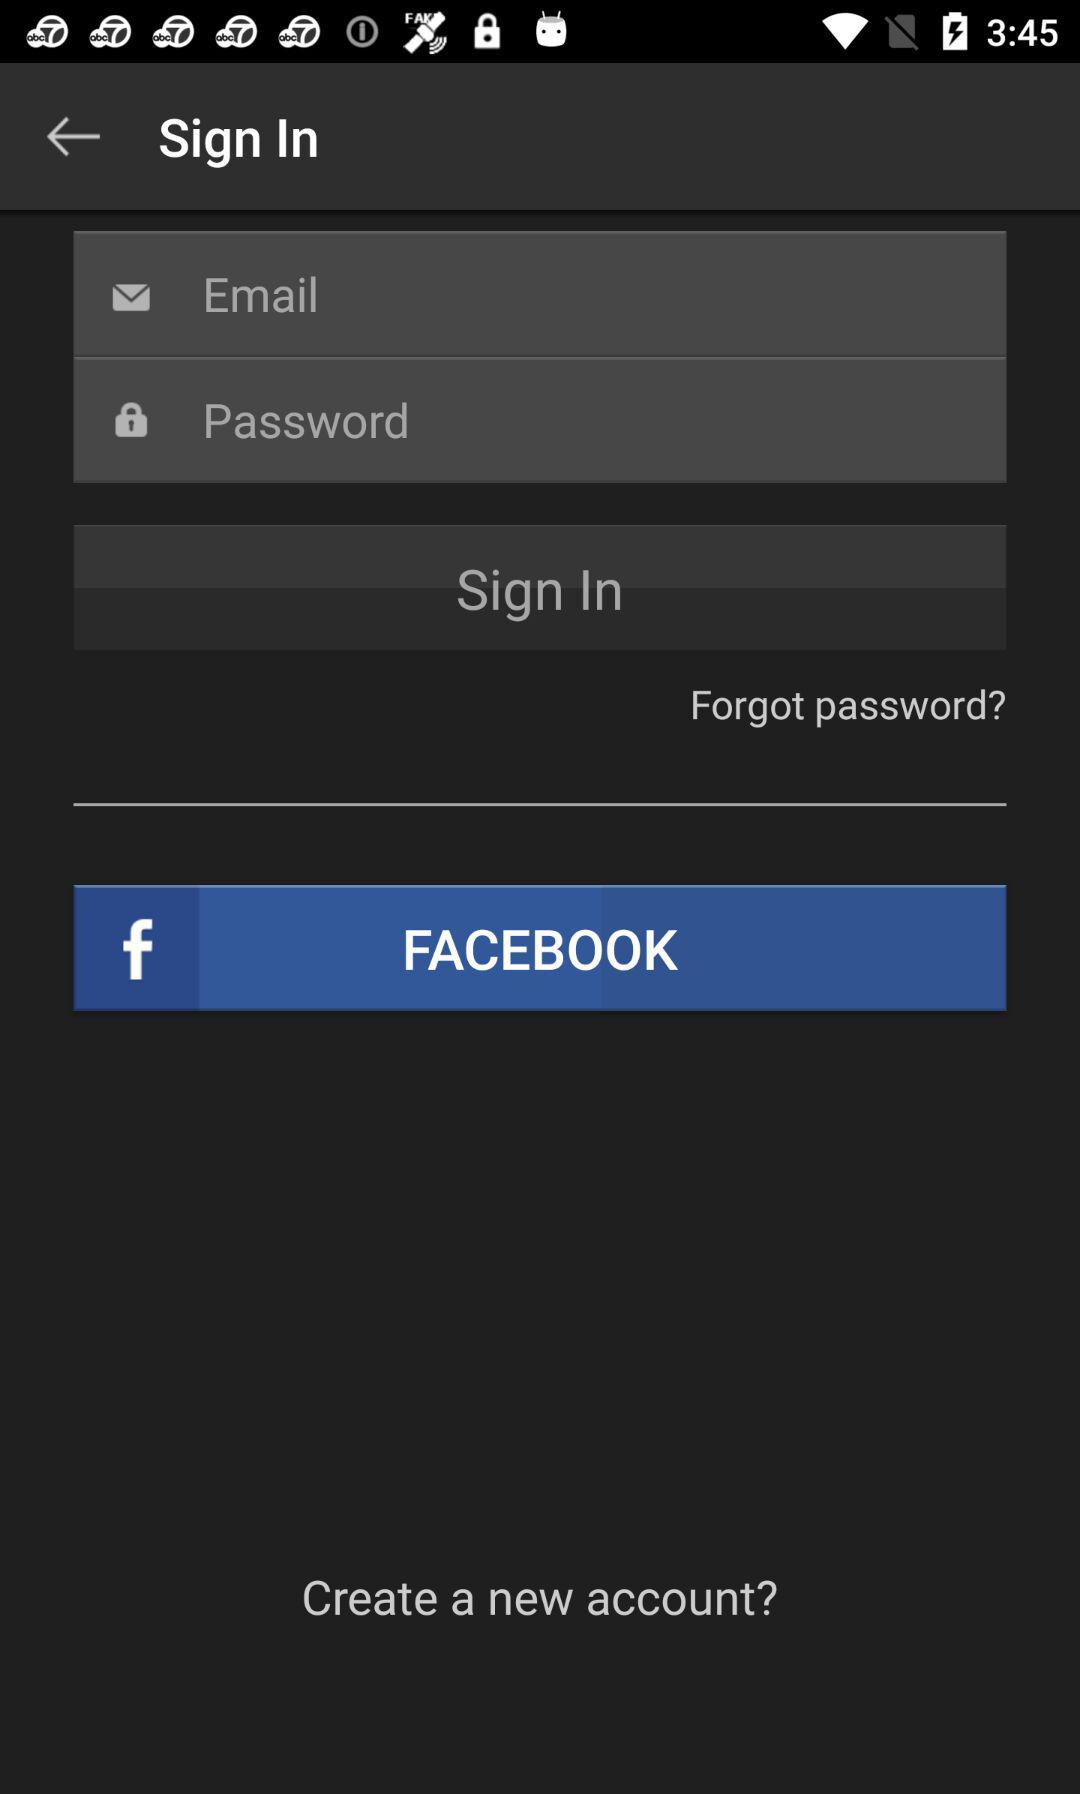EditText: (74, 231, 1008, 361), (74, 358, 1008, 484)
Icon: (46, 117, 102, 159), (115, 402, 149, 440), (111, 284, 152, 313)
Text: (304, 1579, 778, 1617), (692, 689, 1006, 730), (159, 118, 319, 170), (206, 402, 409, 441), (206, 277, 318, 315)
TextButton: (73, 885, 1007, 1012), (74, 525, 1008, 652)
Toolbar: (1, 64, 1077, 211)
UpperTaskBar: (1, 1, 1080, 64)
